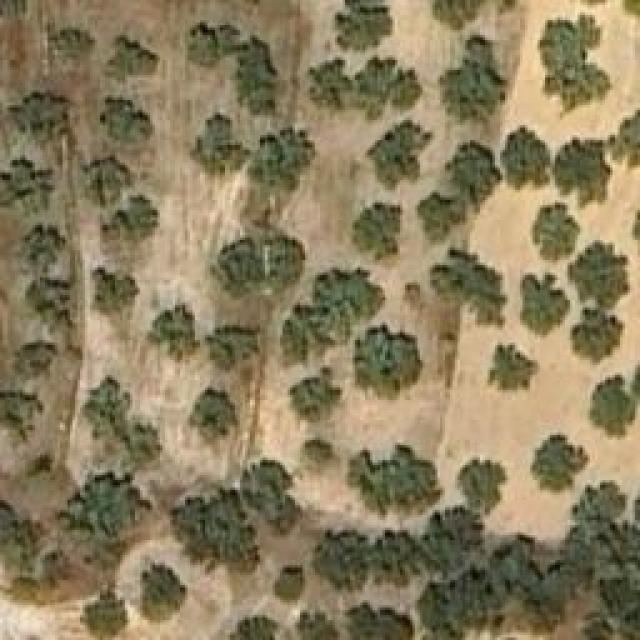Tree: (185, 23, 278, 116), (170, 488, 260, 573), (308, 58, 421, 120), (538, 13, 611, 108), (348, 445, 441, 518), (57, 478, 135, 561), (440, 30, 508, 125), (217, 235, 305, 298), (430, 240, 508, 310), (353, 325, 423, 400), (368, 115, 433, 190), (250, 120, 315, 193), (242, 460, 300, 535), (570, 240, 630, 308), (10, 90, 75, 150), (530, 433, 590, 498), (427, 505, 485, 570), (558, 140, 613, 203), (103, 25, 158, 83), (288, 367, 343, 425), (500, 128, 550, 191), (533, 203, 583, 266), (148, 305, 201, 363), (522, 273, 570, 336), (310, 533, 365, 586), (445, 140, 500, 193), (335, 0, 393, 50), (353, 202, 403, 260), (195, 120, 248, 170), (370, 528, 420, 581), (0, 385, 42, 448), (85, 580, 128, 640), (88, 268, 138, 318), (103, 200, 153, 250), (205, 325, 260, 370), (590, 378, 635, 433), (348, 602, 413, 640), (100, 98, 153, 143), (488, 343, 533, 393), (578, 483, 623, 533), (418, 190, 468, 235), (75, 390, 130, 430), (460, 460, 508, 505), (572, 308, 620, 353), (195, 388, 238, 438), (115, 425, 160, 468), (143, 565, 186, 608), (50, 25, 93, 68), (25, 225, 65, 268), (302, 433, 340, 473), (433, 0, 486, 28), (28, 283, 68, 318), (610, 118, 640, 163), (295, 608, 338, 638), (232, 613, 280, 638), (18, 343, 51, 378), (275, 568, 305, 603), (583, 613, 613, 638)
